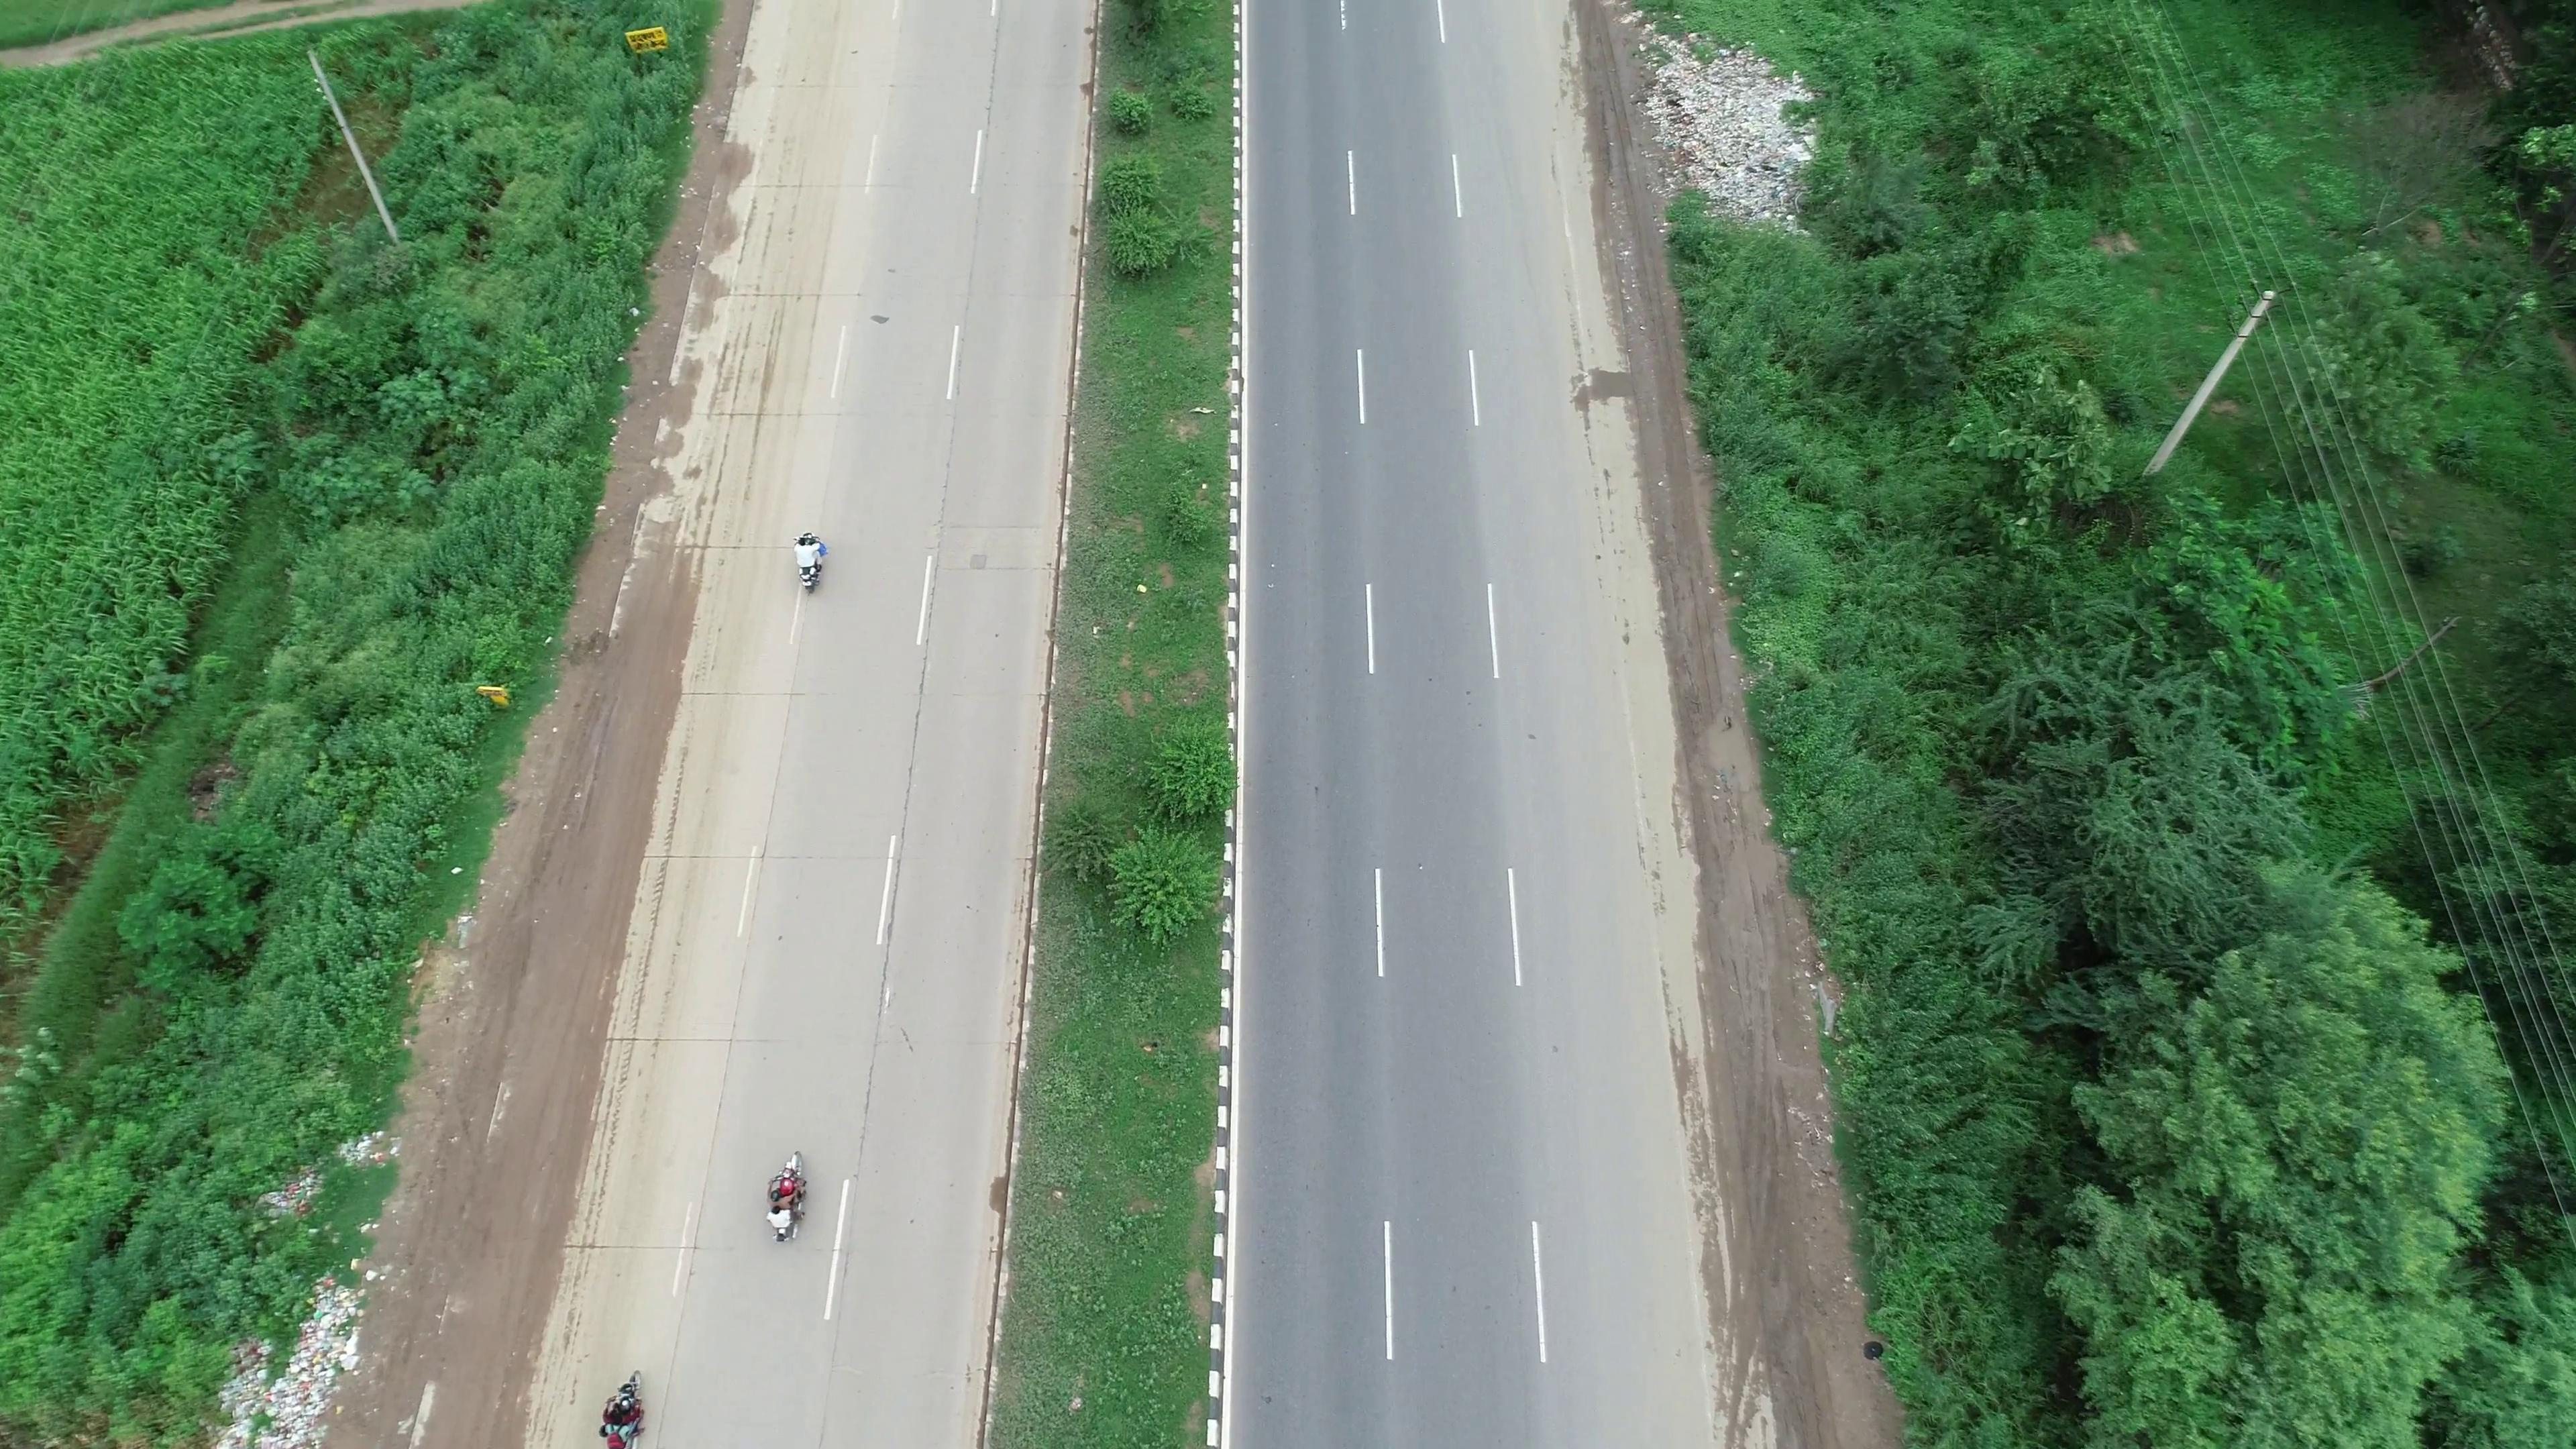Road_side_garbage: (1626, 18, 1808, 253)
